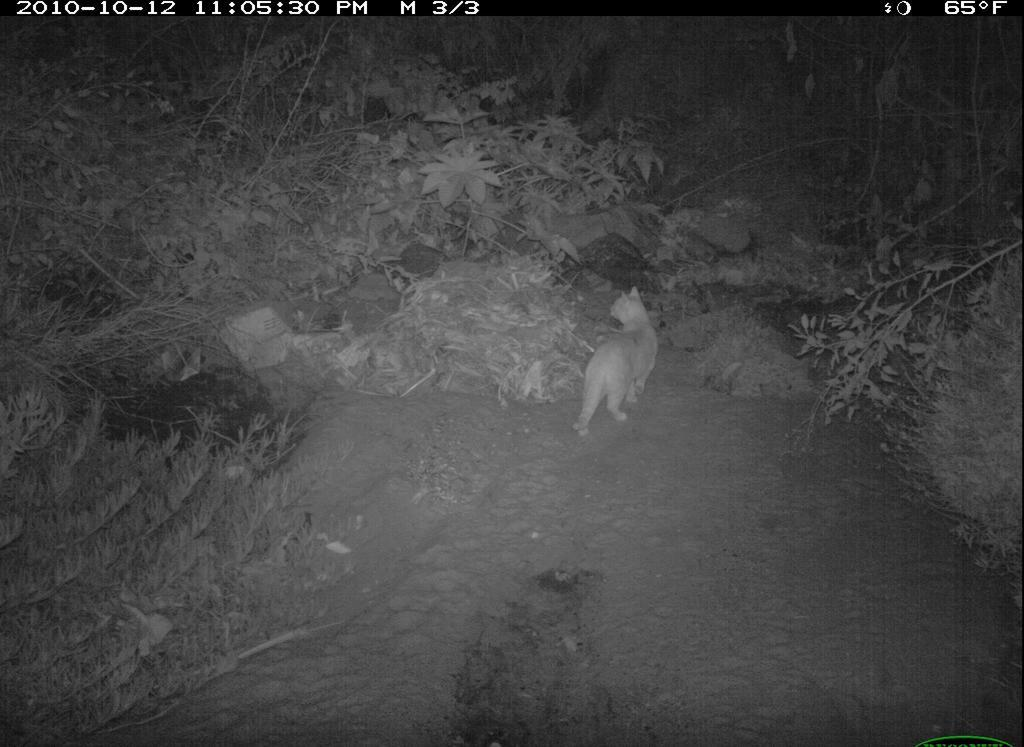cat: (565, 280, 683, 457)
